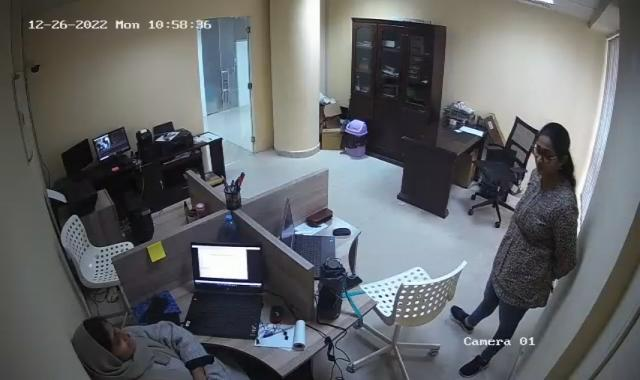no_hairnet: (87, 318, 138, 362), (532, 122, 568, 175)
